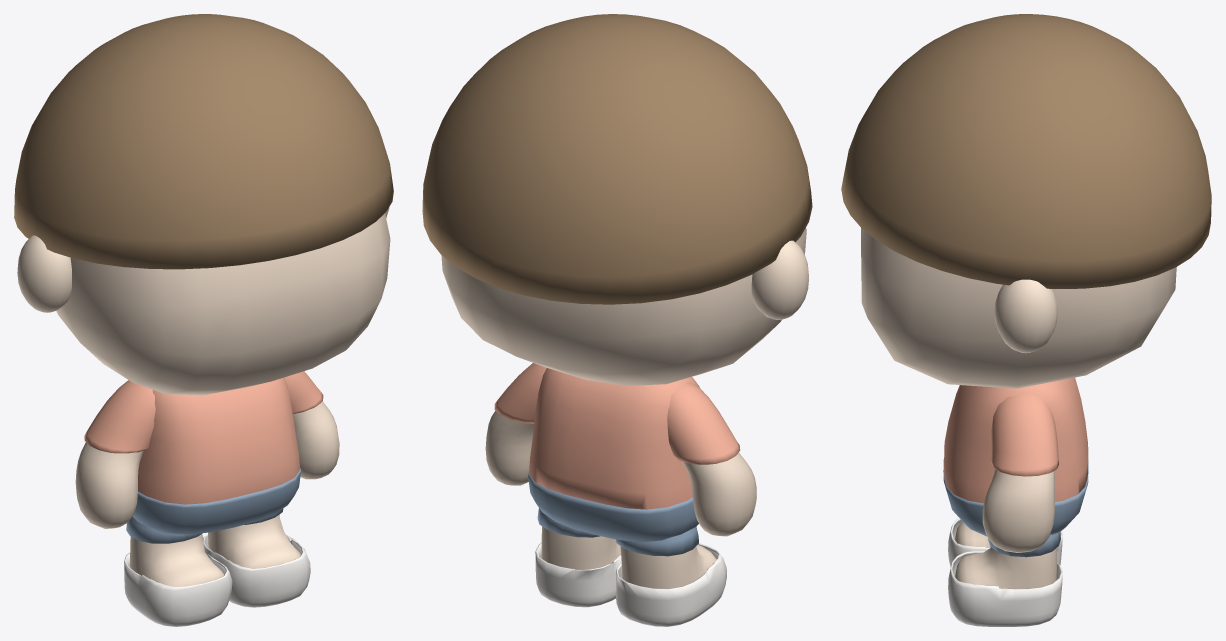
The model's file is npc_nino.fbx.
3 renders of one model, left to right at view 1: azimuth 30°, elevation 25°; view 2: azimuth 150°, elevation 25°; view 3: azimuth 270°, elevation 25°, orthographic. The views are drawn at different scales.
Visible parts, largest first — view 1: pelo, cabeza, camiseta, pantalon, brazoL, zapatoL, camiseta_mangaL, zapatoR, piernaL, piernaR, orejas, brazoR (+2 smaller); view 2: pelo, cabeza, camiseta, pantalon, zapatoL, brazoL, camiseta_mangaL, orejas, zapatoR, piernaL, brazoR, piernaR (+3 smaller); view 3: pelo, cabeza, camiseta, brazoR, camiseta_mangaR, zapatoR, orejas, piernaR, pantalon, zapatoL, pantalon_piernaR, piernaL.
Part boxes in pixels (left/top/right/bottom): pelo: left=14, top=14, right=393, bottom=269; cabeza: left=56, top=213, right=390, bottom=395; camiseta: left=138, top=377, right=300, bottom=504; pantalon: left=132, top=468, right=300, bottom=535; brazoL: left=75, top=442, right=143, bottom=528; zapatoL: left=124, top=553, right=232, bottom=626; camiseta_mangaL: left=84, top=380, right=155, bottom=453; zapatoR: left=203, top=534, right=310, bottom=607; piernaL: left=130, top=534, right=224, bottom=586; piernaR: left=208, top=514, right=300, bottom=568; orejas: left=17, top=207, right=389, bottom=312; brazoR: left=293, top=401, right=339, bottom=479; pelo: left=422, top=14, right=812, bottom=304; cabeza: left=441, top=228, right=806, bottom=385; camiseta: left=529, top=368, right=700, bottom=509; pantalon: left=528, top=472, right=698, bottom=542; zapatoL: left=616, top=543, right=726, bottom=626; brazoL: left=682, top=452, right=756, bottom=536; camiseta_mangaL: left=667, top=382, right=740, bottom=464; orejas: left=751, top=240, right=808, bottom=319; zapatoR: left=535, top=542, right=621, bottom=607; piernaL: left=620, top=545, right=716, bottom=588; brazoR: left=485, top=411, right=533, bottom=485; piernaR: left=541, top=526, right=620, bottom=569; pelo: left=841, top=14, right=1211, bottom=288; cabeza: left=861, top=228, right=1176, bottom=388; camiseta: left=944, top=377, right=1088, bottom=503; brazoR: left=982, top=469, right=1054, bottom=552; camiseta_mangaR: left=991, top=394, right=1058, bottom=476; zapatoR: left=948, top=551, right=1062, bottom=626; orejas: left=994, top=279, right=1057, bottom=353; piernaR: left=955, top=547, right=1056, bottom=588; pantalon: left=943, top=459, right=1088, bottom=536; zapatoL: left=948, top=518, right=1062, bottom=566; pantalon_piernaR: left=988, top=532, right=1060, bottom=557; piernaL: left=954, top=521, right=990, bottom=547.
Size of the model in its own units: 2.11 by 3.09 by 1.85.
